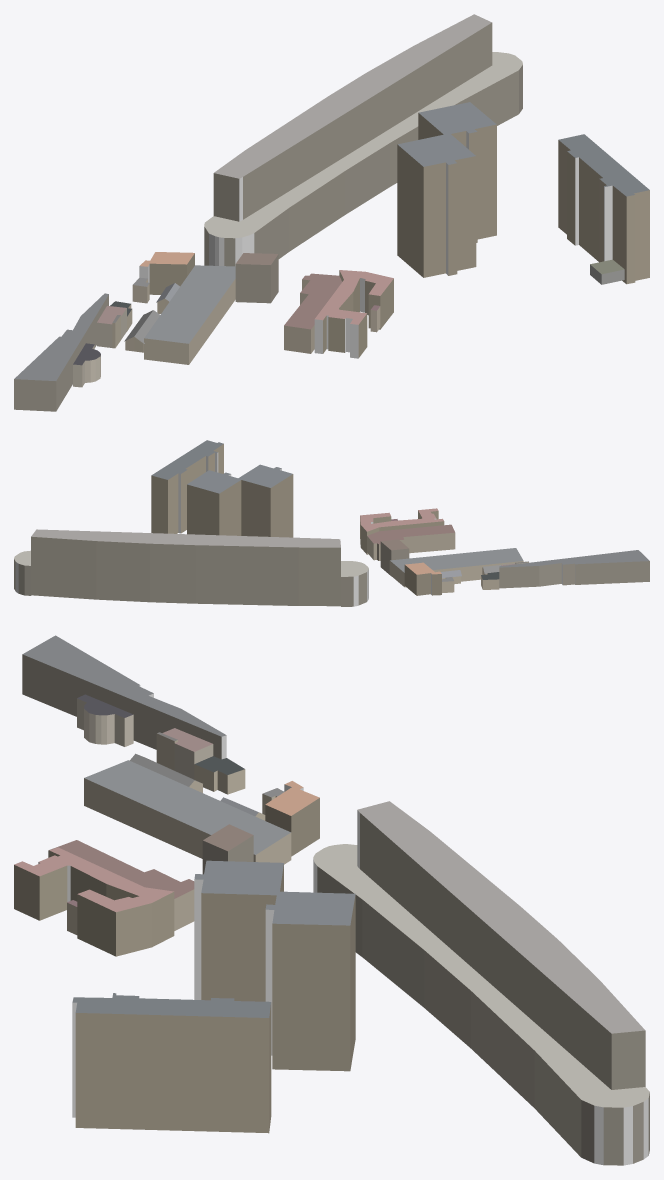
The picture shows the model from 3 angles, top to bottom: view 1: azimuth 30°, elevation 25°; view 2: azimuth 150°, elevation 25°; view 3: azimuth 270°, elevation 25°; orthographic projection. The views are drawn at different scales.
Visible parts, largest first — view 1: tuile; view 2: tuile; view 3: tuile.
Part boxes in pixels (left/top/right/bottom): tuile: left=14, top=14, right=649, bottom=411; tuile: left=14, top=440, right=649, bottom=606; tuile: left=14, top=635, right=649, bottom=1165.
Size of the model in its own units: 272 by 42.54 by 159.
